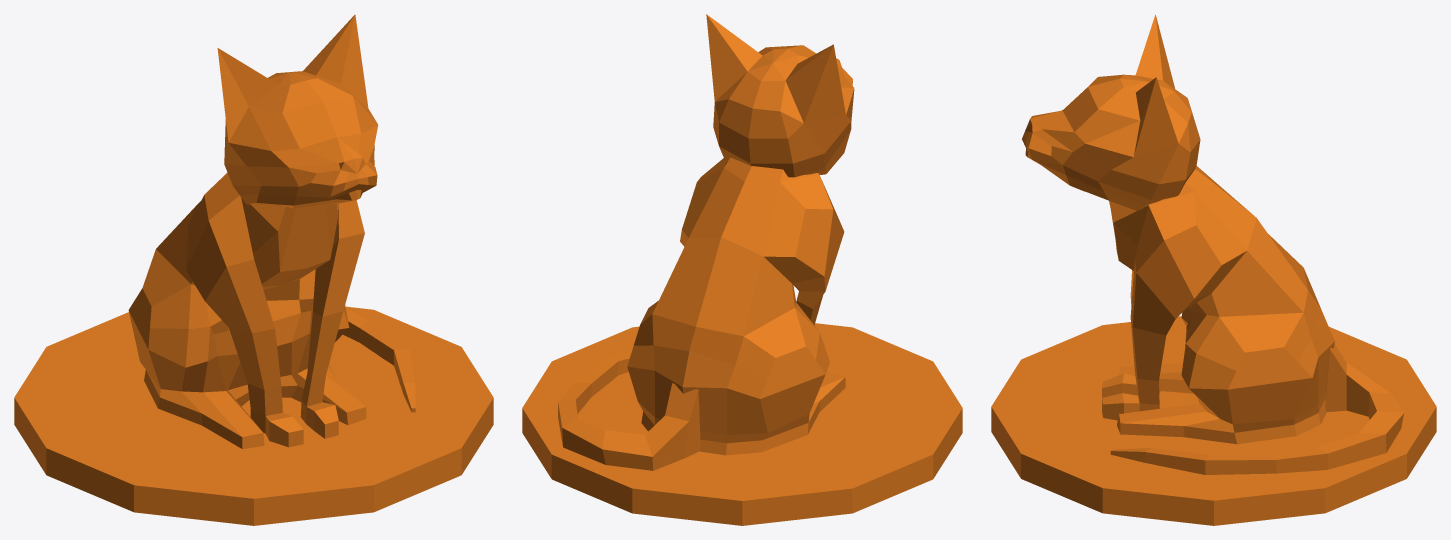
File: pawn_cat.glb
3 views of the same model, side by side, from view 1: azimuth 30°, elevation 25°; view 2: azimuth 150°, elevation 25°; view 3: azimuth 270°, elevation 25° (orthographic). The views are drawn at different scales.
Visible parts, largest first — view 1: Socle.Cat, Cat_Body, Cat_Head, Cat_Tail; view 2: Cat_Body, Socle.Cat, Cat_Head, Cat_Tail; view 3: Cat_Body, Socle.Cat, Cat_Head, Cat_Tail.
Boxes of the visible parts, x1,y1,x2,y2 form: Socle.Cat: (14, 306, 493, 525); Cat_Body: (128, 172, 366, 449); Cat_Head: (217, 14, 378, 208); Cat_Tail: (343, 308, 415, 412); Cat_Body: (627, 157, 845, 455); Socle.Cat: (522, 323, 962, 525); Cat_Head: (706, 14, 854, 177); Cat_Tail: (558, 351, 700, 470); Cat_Body: (1102, 166, 1334, 444); Socle.Cat: (991, 316, 1436, 525); Cat_Head: (1022, 14, 1200, 210); Cat_Tail: (1110, 344, 1403, 474).
Size of the model in its own units: 4 by 3.84 by 4.
